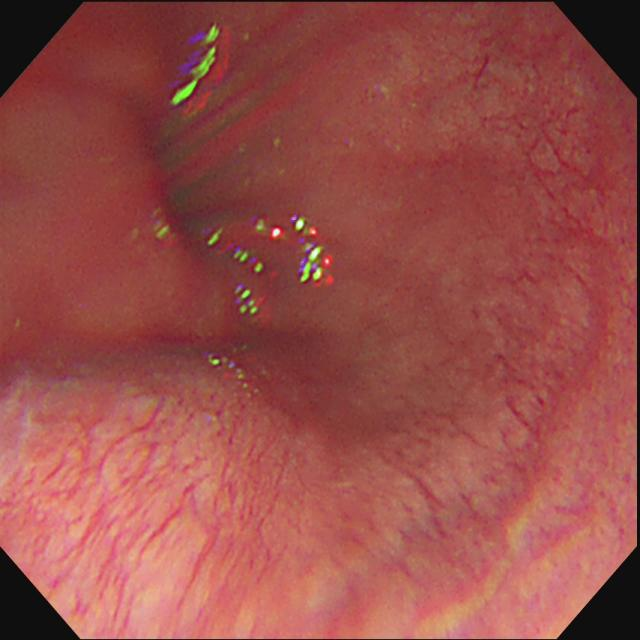U: (168, 20, 234, 118), (208, 218, 269, 318), (272, 215, 337, 293), (210, 346, 269, 399)
